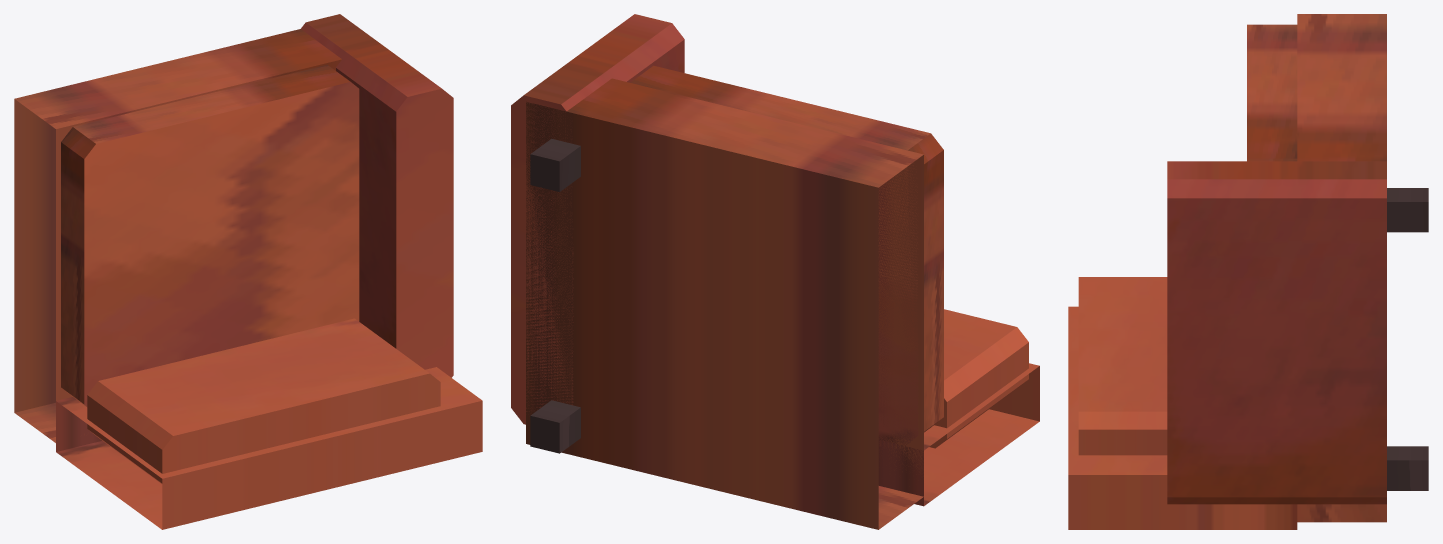
File: pz_sofa_seating_indoor_01_red_comfy_1_0.obj
3 views of the same model, side by side, from view 1: azimuth 30°, elevation 25°; view 2: azimuth 150°, elevation 25°; view 3: azimuth 270°, elevation 25° (orthographic). The views are drawn at different scales.
Bounding box in the file's own units: 1 × 0.93 × 0.86.
1 material, 1 textured.
